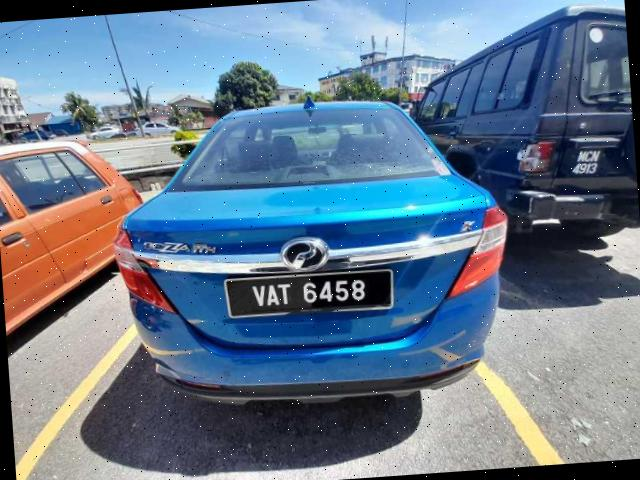License_Plate: (223, 267, 396, 321)
car: (104, 86, 521, 418)
